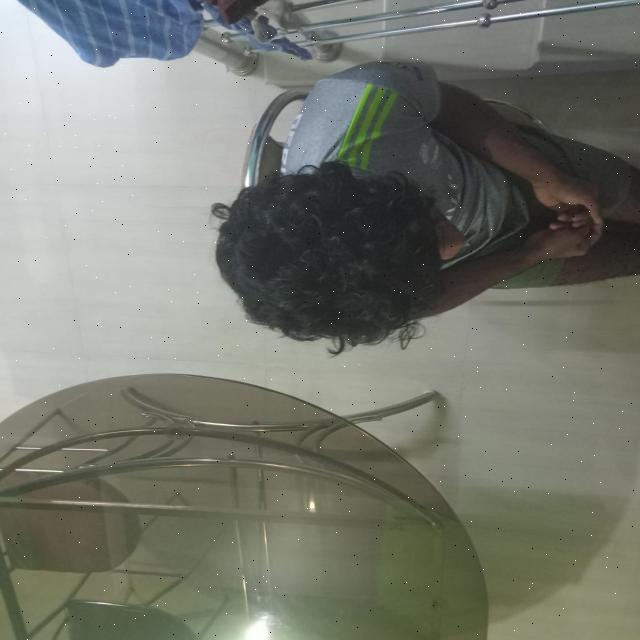humans: (183, 33, 640, 370)
